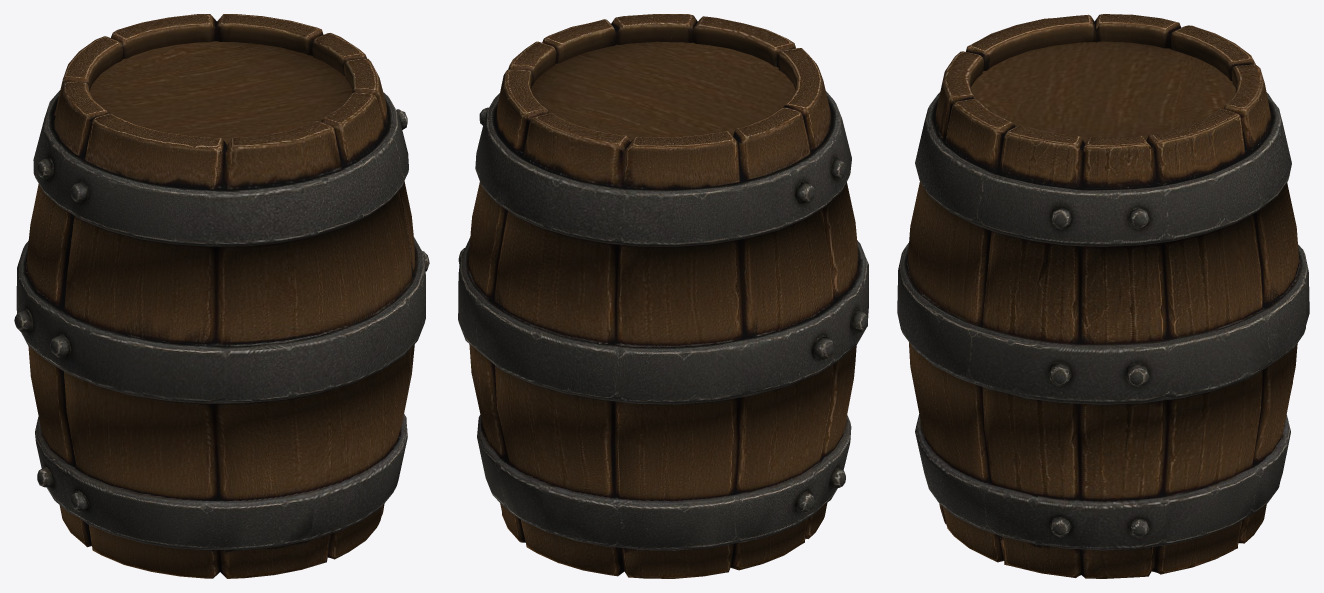
File: Barrel.fbx
The picture shows the model from 3 angles, left to right: view 1: azimuth 30°, elevation 25°; view 2: azimuth 150°, elevation 25°; view 3: azimuth 270°, elevation 25°; orthographic projection.
Parts seen in each view (by area): view 1: Barrel; view 2: Barrel; view 3: Barrel.
Part boxes in pixels (x1,y1,x2,y2): Barrel: (14,14,429,578); Barrel: (458,14,868,578); Barrel: (897,14,1309,578).
Bounding box in the file's own units: 90.43 × 99.8 × 86.52.
1 material, 1 textured.
